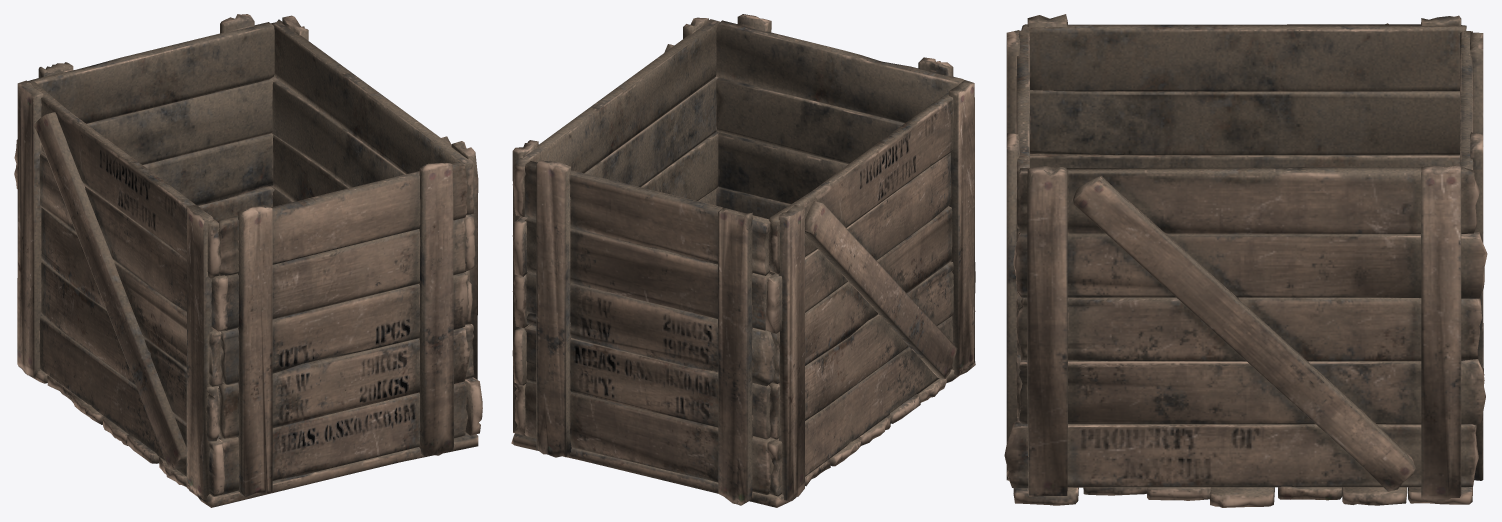
3 views of the same model, side by side, from view 1: azimuth 30°, elevation 25°; view 2: azimuth 150°, elevation 25°; view 3: azimuth 270°, elevation 25° (orthographic). The views are drawn at different scales.
Visible parts, largest first — view 1: SM_Box02_2_LOD0; view 2: SM_Box02_2_LOD0; view 3: SM_Box02_2_LOD0.
Part boxes in pixels (x1,y1,x2,y2): SM_Box02_2_LOD0: (14, 14, 482, 507); SM_Box02_2_LOD0: (511, 14, 975, 507); SM_Box02_2_LOD0: (1004, 14, 1487, 507).
Size of the model in its own units: 0.6397 by 0.6472 by 0.8247.
1 material, 1 textured.
